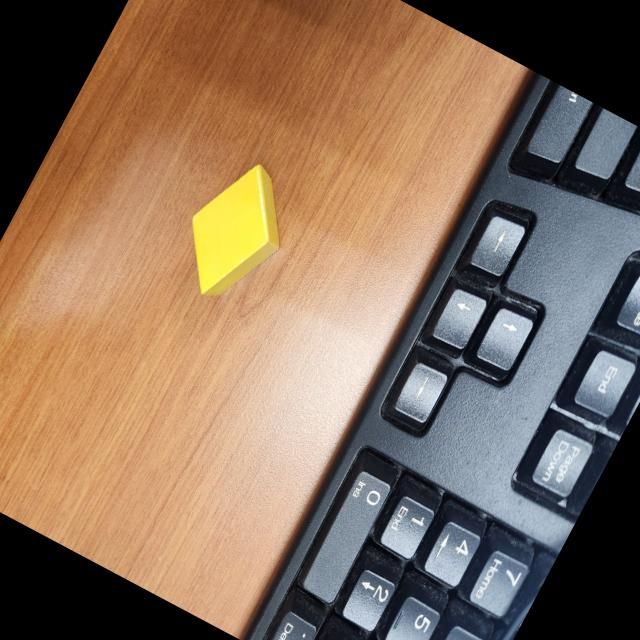yellow: (192, 165, 278, 296)
